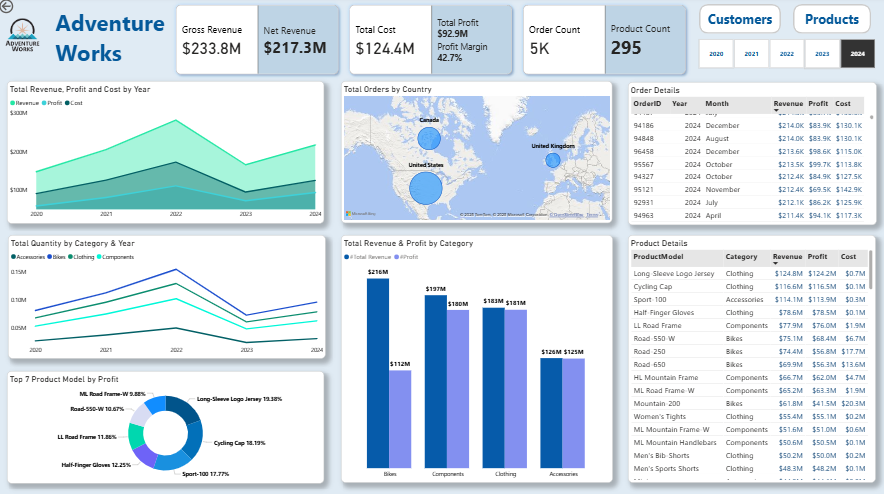

This screenshot's page, from the dashboard's own definition file:
{"tool":"powerbi","page":{"name":"Sales Overview","canvas":[1920,1080],"ordinal":0},"visuals":[{"type":"areaChart","title":"Total Revenue, Profit and Cost by Year","fields":{"Category":["OrderDate.FullDateAlternateKey.Variation.Date Hierarchy.Year","OrderDate.FullDateAlternateKey.Variation.Date Hierarchy.Quarter","OrderDate.FullDateAlternateKey.Variation.Date Hierarchy.Month","OrderDate.FullDateAlternateKey.Variation.Date Hierarchy.Day"],"Y":["FactSales.#Total Revenue","FactSales.#Profit","FactSales.#Total Cost"]},"box":[22.5,182.5,685,307.5],"z":0},{"type":"map","title":"Total Orders by Country","fields":{"Category":["DimCustomer.Country","DimCustomer.State"],"Size":["Count(FactSales.SalesOrderID)"]},"box":[742.1,181.4,586,307],"z":1000},{"type":"tableEx","title":"Order Details","fields":{"Values":["FactSales.SalesOrderID","OrderDate.FullDateAlternateKey.Variation.Date Hierarchy.Year","OrderDate.FullDateAlternateKey.Variation.Date Hierarchy.Month","FactSales.#Total Revenue","FactSales.#Profit","FactSales.#Total Cost"]},"box":[1362.8,183.7,537.2,309.3],"z":2000},{"type":"lineChart","title":"Total Quantity by Category & Year","fields":{"Category":["OrderDate.FullDateAlternateKey.Variation.Date Hierarchy.Year","OrderDate.FullDateAlternateKey.Variation.Date Hierarchy.Quarter","OrderDate.FullDateAlternateKey.Variation.Date Hierarchy.Month","OrderDate.FullDateAlternateKey.Variation.Date Hierarchy.Day"],"Y":["Sum(FactSales.Quantity)"],"Series":["DimProduct.Category"]},"box":[23.3,514,686,267.4],"z":3000},{"type":"clusteredColumnChart","title":"Total Revenue & Profit by Category","fields":{"Category":["DimProduct.Category"],"Y":["FactSales.#Total Revenue","FactSales.#Profit"]},"box":[743.3,515,586.7,535],"z":4000},{"type":"donutChart","title":"Top 7 Product Model by Profit","fields":{"Y":["FactSales.#Profit"],"Category":["DimProduct.ProductModel"]},"box":[22.5,807.5,685,242.5],"z":5000},{"type":"tableEx","title":"Product Details","fields":{"Values":["DimProduct.ProductModel","DimProduct.Category","FactSales.#Total Revenue","FactSales.#Profit","FactSales.#Total Cost"]},"box":[1362.5,515,535,535],"z":6000},{"type":"cardVisual","fields":{"Data":["FactSales.#RevenueWithTax","FactSales.#Total Cost","FactSales.#Order Count"]},"box":[368.6,0,1135.7,184.3],"z":7000},{"type":"image","box":[0,20,110,126.7],"z":8000},{"type":"textbox","box":[120,16.7,246.7,163.3],"z":9000},{"type":"actionButton","box":[1517.1,15.7,177.1,64.3],"z":10000},{"type":"actionButton","box":[1718.6,15.7,168.6,64.3],"z":11000},{"type":"slicer","fields":{"Values":["FactSales.OrderDate.Variation.Date Hierarchy.Year"]},"box":[1490,84.3,430,75.7],"z":12000}]}

Visuals, with their boxes in screenshot pixels (x1, y1, x2, y2), scaled from the page's 1920x1080 canvas onto the 884x494 screenshot:
"Total Revenue, Profit and Cost by Year" areaChart: locate(10, 83, 326, 224)
"Total Orders by Country" map: locate(342, 83, 611, 223)
"Order Details" tableEx: locate(627, 84, 875, 226)
"Total Quantity by Category & Year" lineChart: locate(11, 235, 327, 357)
"Total Revenue & Profit by Category" clusteredColumnChart: locate(342, 236, 612, 480)
"Top 7 Product Model by Profit" donutChart: locate(10, 369, 326, 480)
"Product Details" tableEx: locate(627, 236, 874, 480)
cardVisual - FactSales.#RevenueWithTax x FactSales.#Total Cost: locate(170, 0, 693, 84)
image: locate(0, 9, 51, 67)
textbox: locate(55, 8, 169, 82)
actionButton: locate(698, 7, 780, 37)
actionButton: locate(791, 7, 869, 37)
slicer - FactSales.OrderDate.Variation.Date Hierarchy.Year: locate(686, 39, 883, 73)
